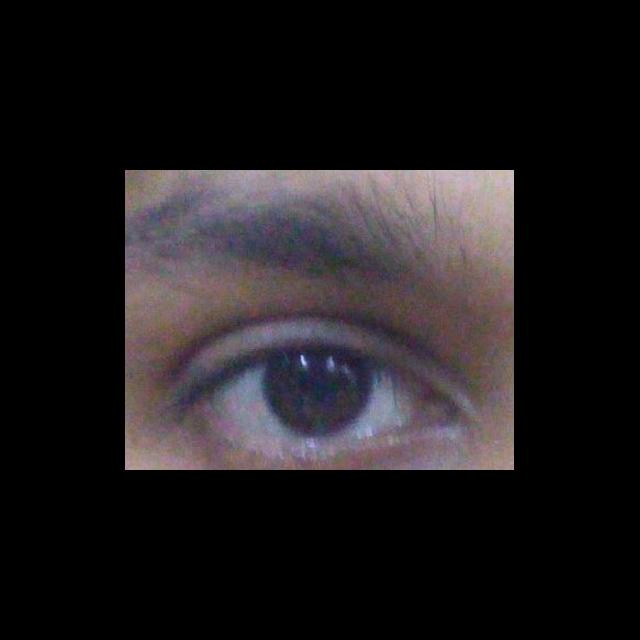eye: (212, 350, 418, 448)
iris: (264, 354, 374, 434)
